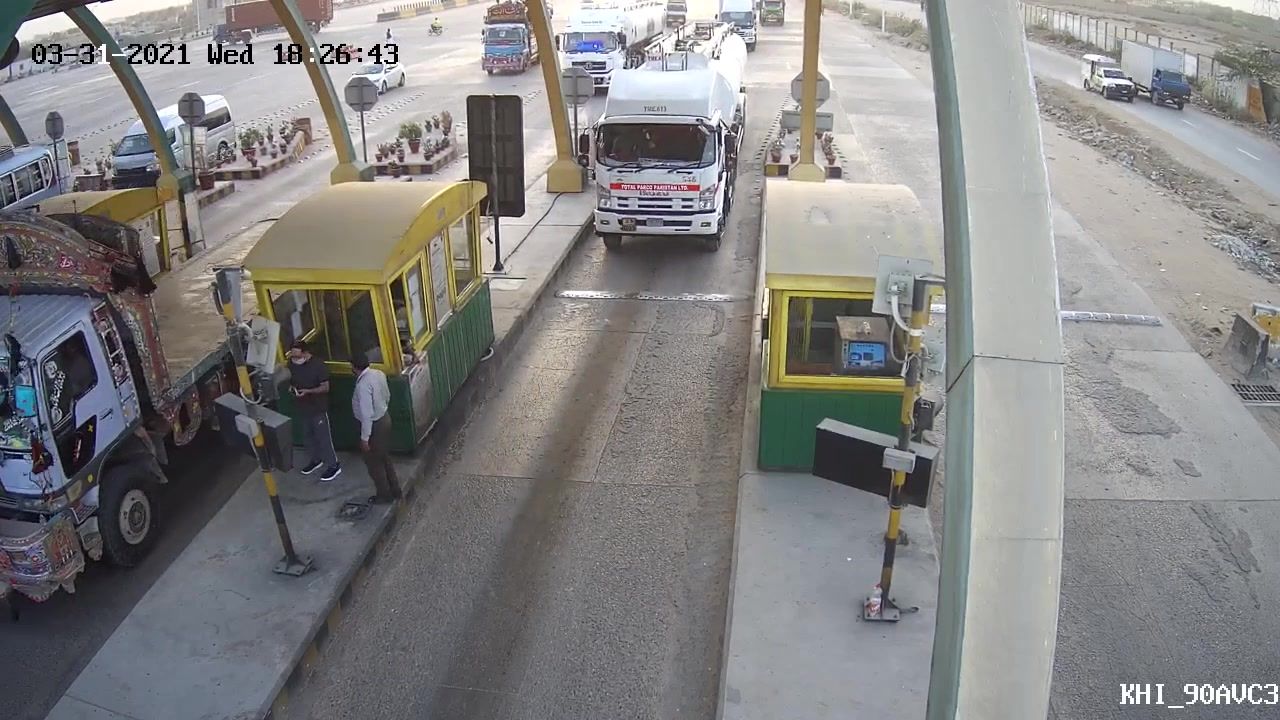F6: (573, 19, 759, 256)
